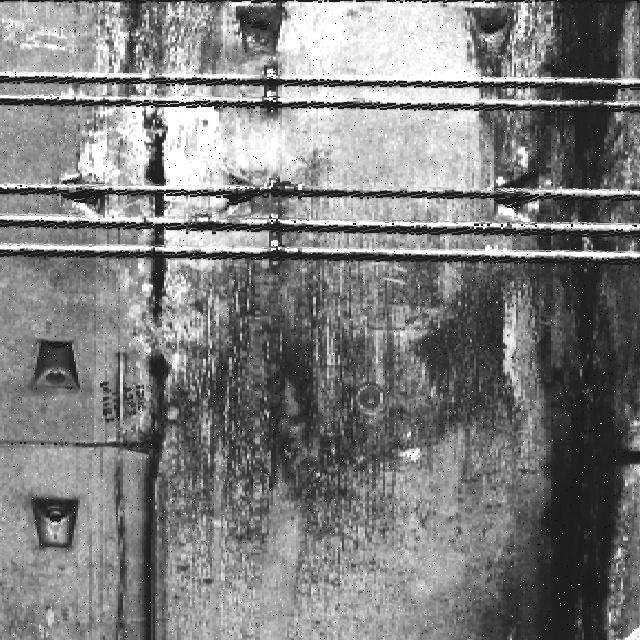leakage: (472, 6, 640, 640), (131, 112, 179, 640)
